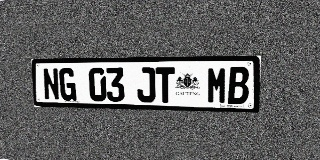0: (88, 68, 106, 102)
3: (106, 68, 124, 102)
B: (228, 67, 249, 104)
G: (59, 68, 76, 101)
J: (137, 67, 155, 103)
M: (207, 67, 227, 104)
N: (42, 68, 60, 101)
T: (156, 67, 175, 103)
